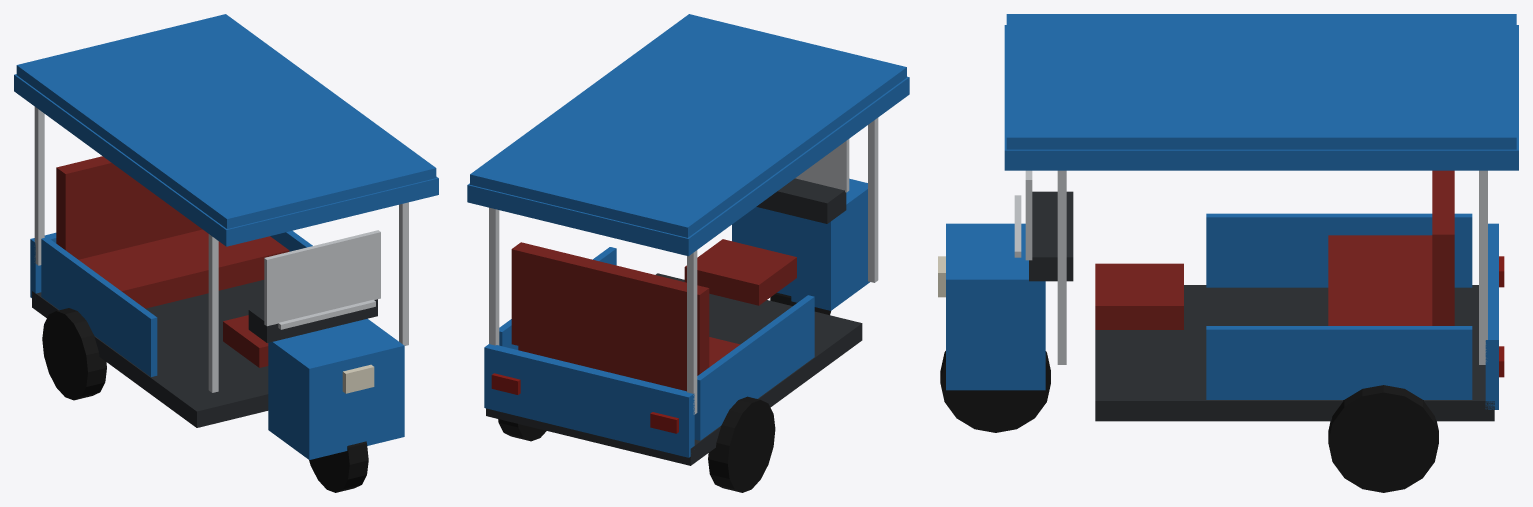
Rendered from tuktuk.glb.
3 renders of one model, left to right at view 1: azimuth 30°, elevation 25°; view 2: azimuth 150°, elevation 25°; view 3: azimuth 270°, elevation 25°, orthographic. The views are drawn at different scales.
Parts seen in each view (by area): view 1: tuktuk; view 2: tuktuk; view 3: tuktuk.
Boxes of the visible parts, x1=… form: tuktuk: x1=14, y1=14, x2=438, y2=492; tuktuk: x1=467, y1=14, x2=909, y2=492; tuktuk: x1=938, y1=14, x2=1518, y2=492.
Bounding box in the file's own units: 1.4 × 1.75 × 2.62.
